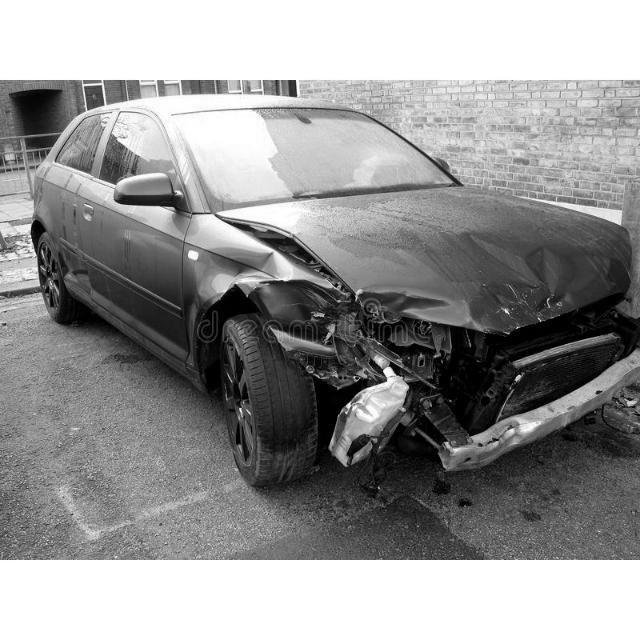bonnet-dent: (347, 186, 639, 323)
fender-dent: (190, 253, 339, 373)
